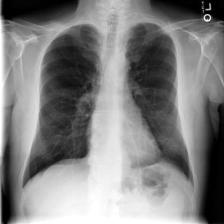normal: (17, 22, 198, 192)
